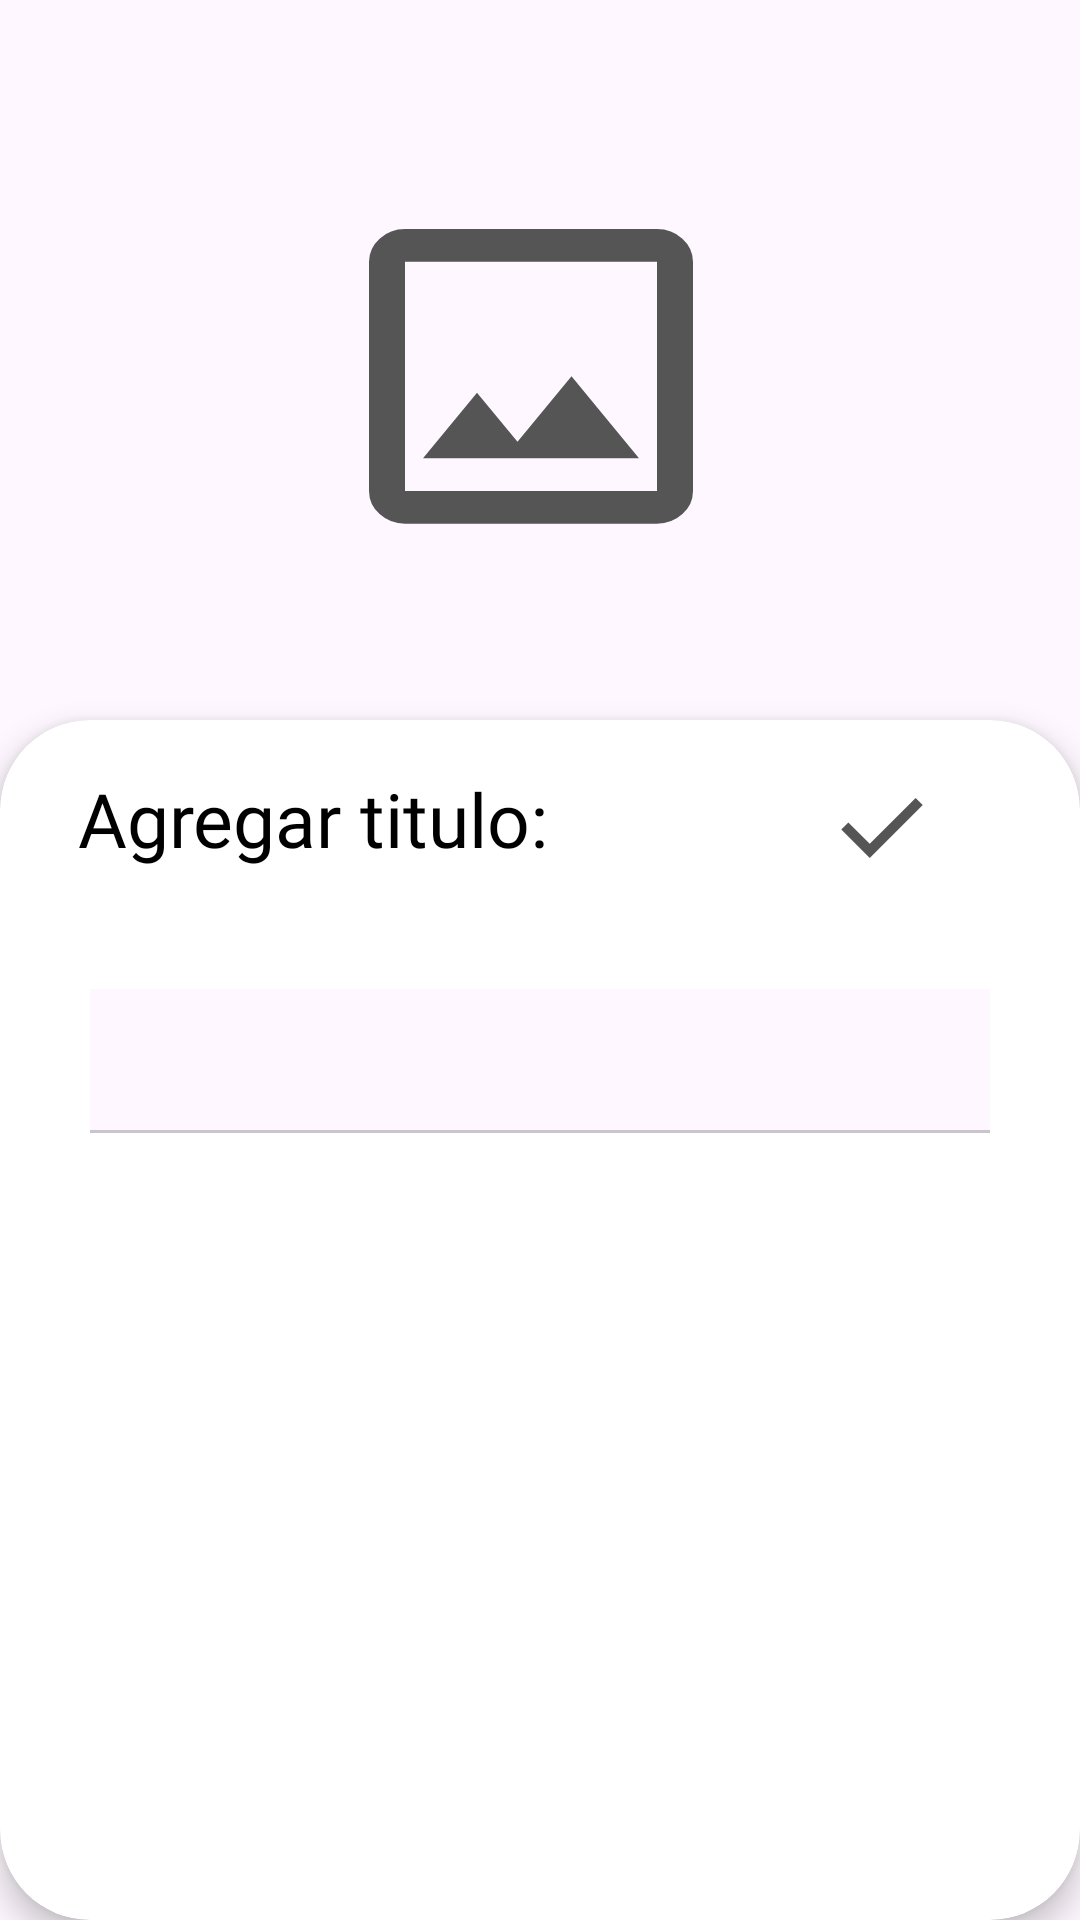

Named icons in this screenshot (1080px x 1920px) and their centers, [x,y]:
check: [882,828]
